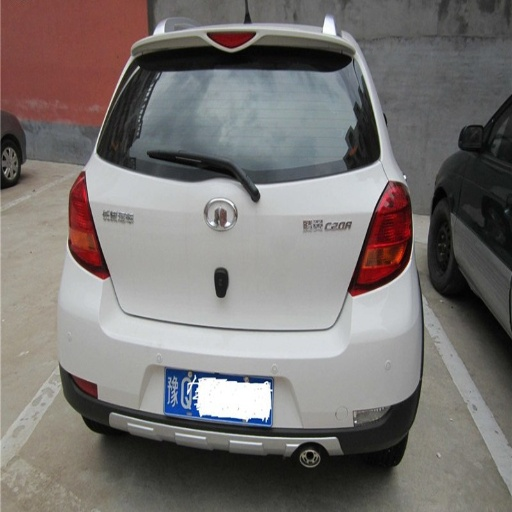back_bumper: (57, 257, 423, 455)
back_left_light: (69, 172, 109, 278)
tailgate: (252, 163, 380, 325), (86, 173, 189, 320)
